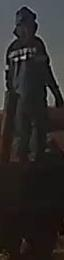gloves: (50, 85, 64, 109)
vest: (4, 36, 48, 105)
